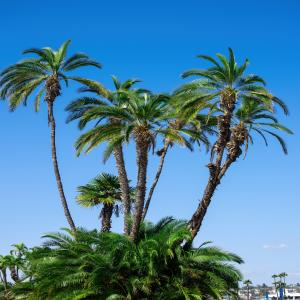palm tree: (167, 46, 294, 252), (64, 75, 215, 244), (0, 38, 105, 243)
